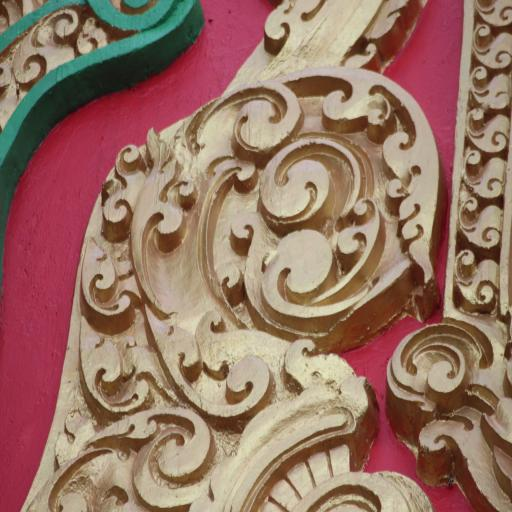la: (135, 72, 439, 326), (31, 410, 217, 512), (144, 308, 272, 422), (75, 312, 152, 406), (11, 0, 81, 91), (81, 232, 137, 334), (98, 138, 146, 231), (456, 188, 512, 253), (454, 250, 508, 314), (461, 144, 512, 198), (465, 100, 512, 152), (473, 22, 512, 72), (470, 62, 512, 108), (476, 0, 512, 34)
